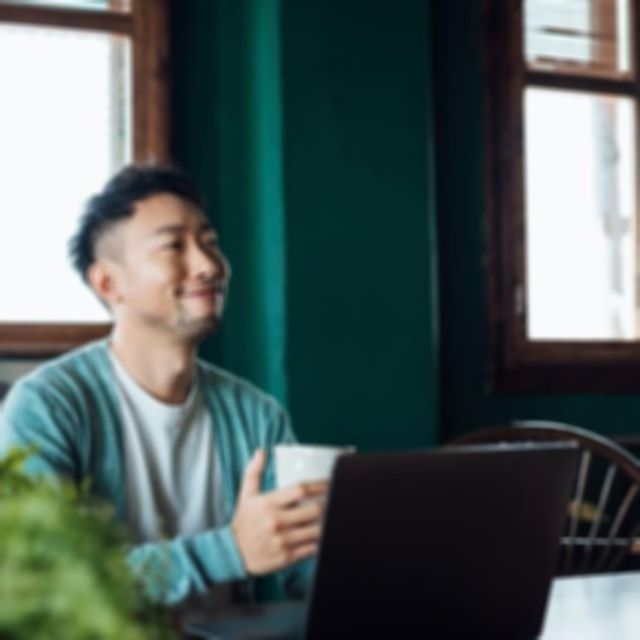Sin_Casco_Mascarrilla: (70, 163, 234, 332)
